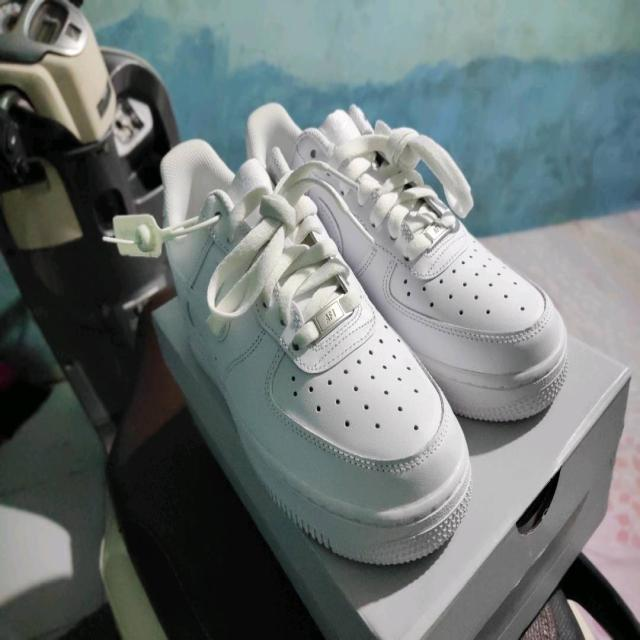nike original air force: (146, 138, 476, 568), (240, 100, 588, 420)
